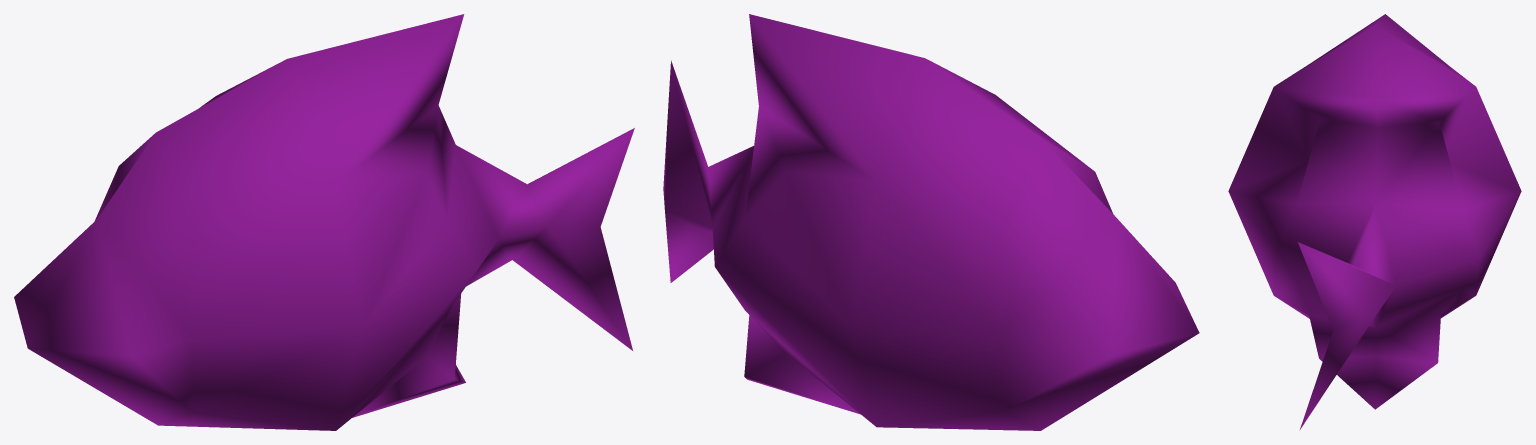
File: Pez.fbx
The picture shows the model from 3 angles, left to right: view 1: azimuth 30°, elevation 25°; view 2: azimuth 150°, elevation 25°; view 3: azimuth 270°, elevation 25°; orthographic projection. The views are drawn at different scales.
Parts seen in each view (by area): view 1: pez003; view 2: pez003; view 3: pez003.
Boxes of the visible parts, <box> form: pez003: <box>14,14,634,430</box>; pez003: <box>663,14,1199,430</box>; pez003: <box>1228,14,1521,430</box>.
Bounding box in the file's own units: 0.7134 × 0.4518 × 0.3763.
